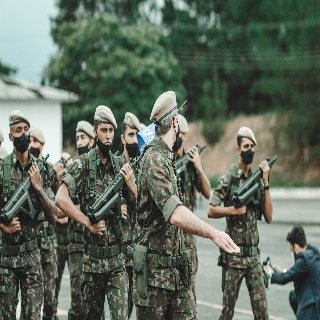rifle: (1, 154, 49, 227), (90, 159, 133, 227), (233, 155, 278, 210), (169, 144, 208, 183), (47, 152, 72, 182)
